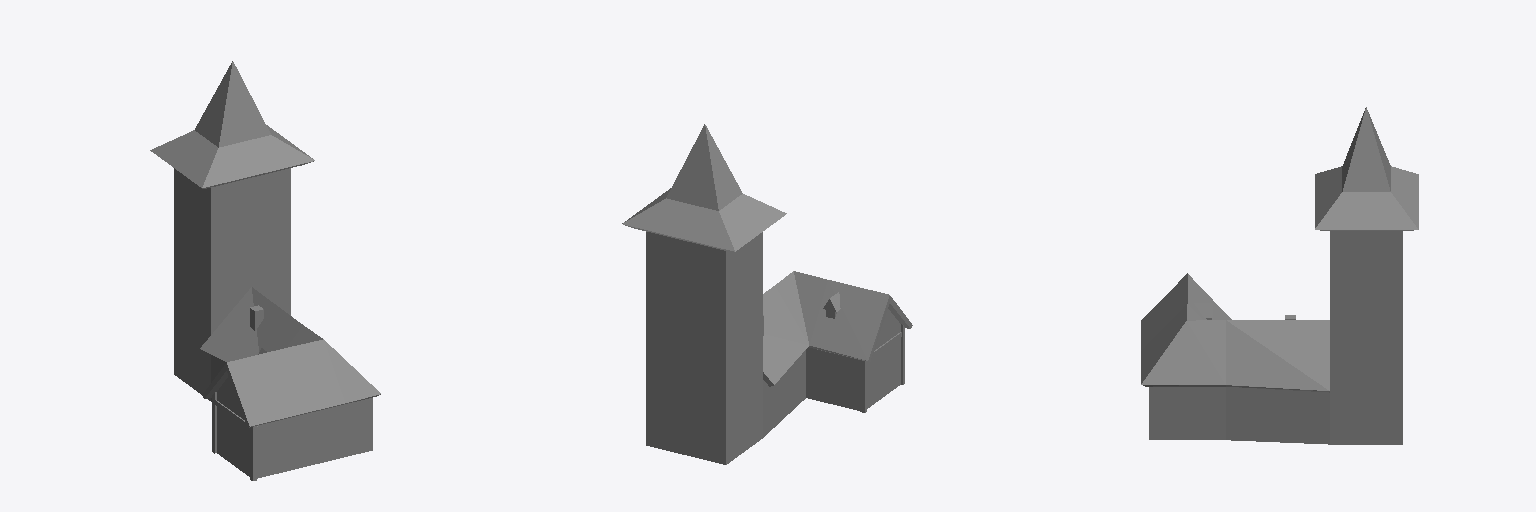
File: Hous_12_Cut.obj
3 renders of one model, left to right at view 1: azimuth 30°, elevation 25°; view 2: azimuth 150°, elevation 25°; view 3: azimuth 270°, elevation 25°, orthographic.
Parts seen in each view (by area): view 1: House12_R, House12_T; view 2: House12_R, House12_T; view 3: House12_R, House12_T.
Part boxes in pixels (x1,y1,x2,y2): House12_R: (150, 61, 380, 427); House12_T: (174, 316, 372, 480); House12_R: (622, 124, 912, 405); House12_T: (646, 309, 904, 464); House12_R: (1141, 107, 1418, 392); House12_T: (1149, 384, 1402, 444).
Bounding box in the file's own units: 7.41 × 14.62 × 11.54.